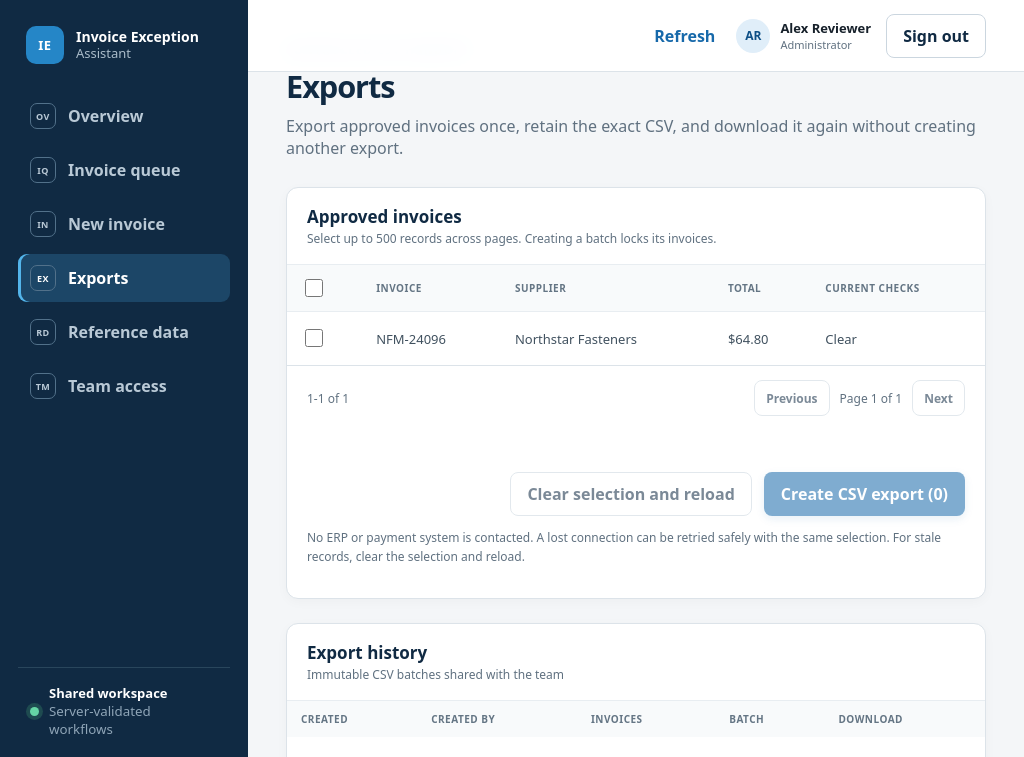
Test case: CSV exports › does not clear a failed batch selection and supports clearing stale records
(page scrolled)
Click the checkbox named "Select invoice NFM-24096" at (314, 338), box [305,329,323,347]
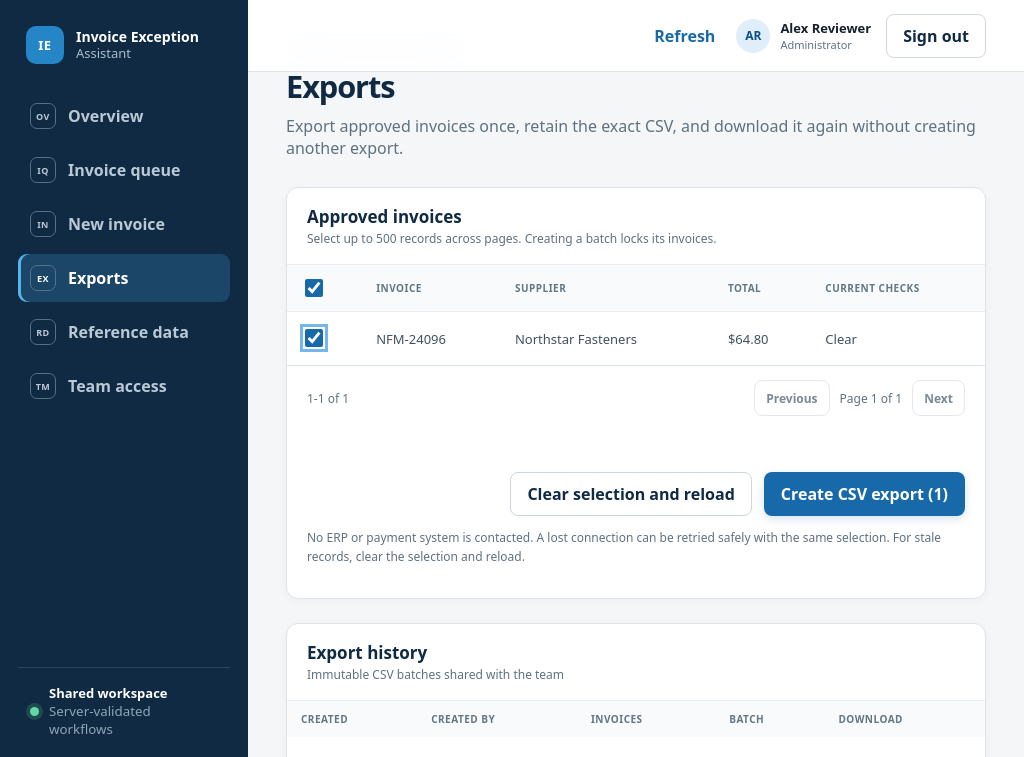
Click the button "Create CSV export (1)" at (864, 494), box [764,472,965,516]
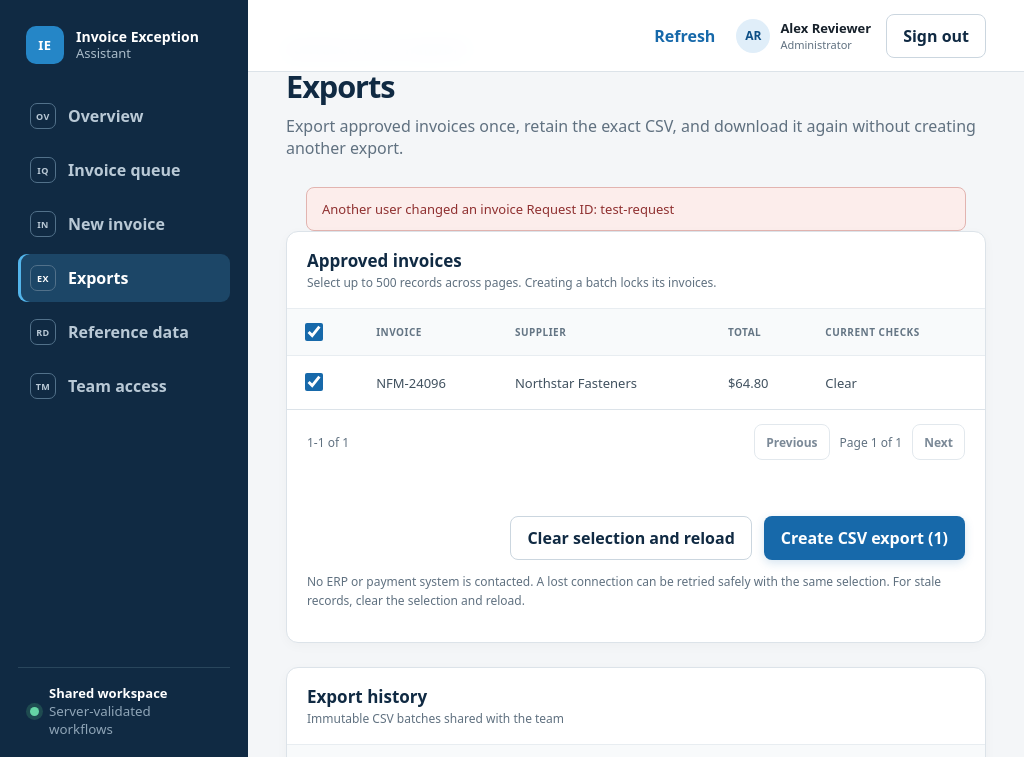
Expected: the checkbox named "Select invoice NFM-24096" is checked, [305,373,323,391]
Expected: the message shows "Another user", [322,200,674,218]
Click the button "Clear selection and reload" at (631, 538), box [510,516,752,560]
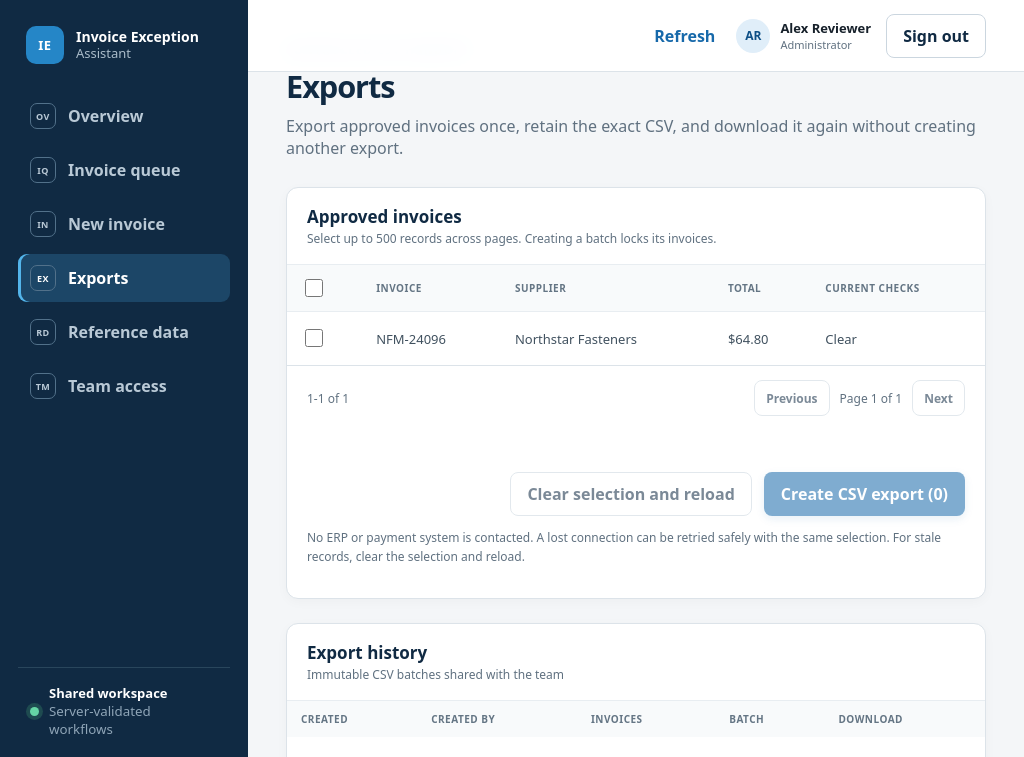
Expected: the button "Create CSV export (0)" is disabled, [764,472,965,516]
